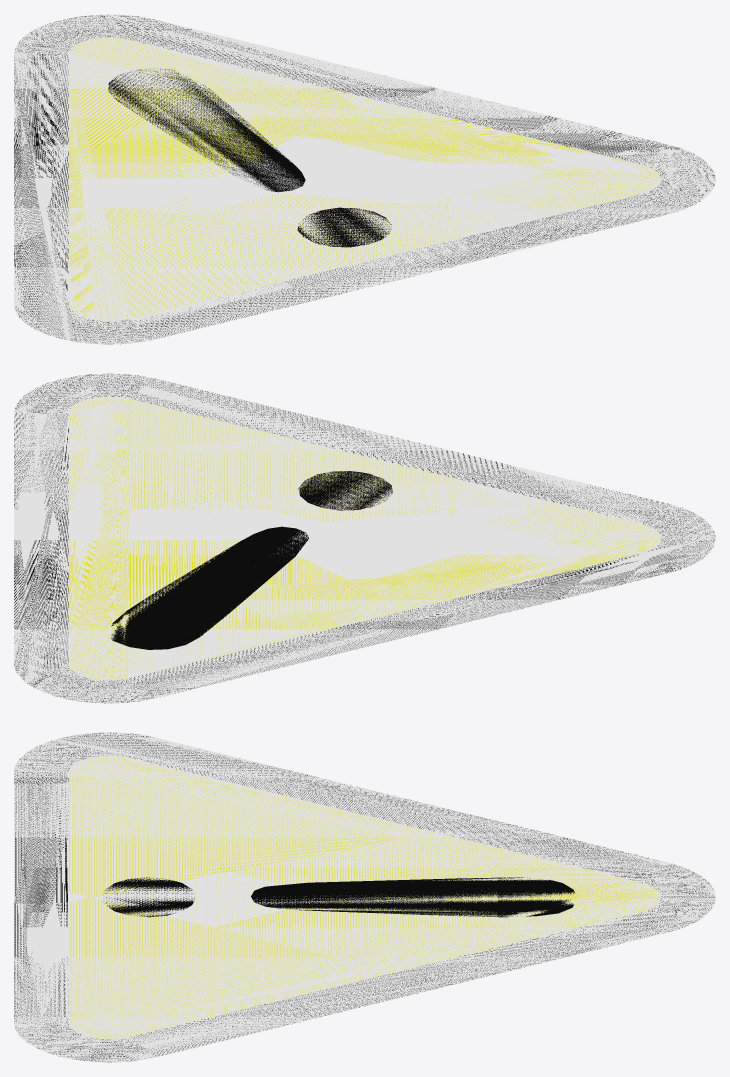
The model's file is danger_sign.dae.
3 renders of one model, top to bottom at view 1: azimuth 30°, elevation 25°; view 2: azimuth 150°, elevation 25°; view 3: azimuth 270°, elevation 25°, orthographic.
Parts seen in each view (by area): view 1: Component_1 (×2), instance_1; view 2: Component_1 (×2), instance_1; view 3: Component_1 (×2), instance_1.
Part boxes in pixels (x1,y1,x2,y2): Component_1 (×2): [14, 14, 715, 344]; instance_1: [108, 68, 391, 247]; Component_1 (×2): [14, 373, 715, 703]; instance_1: [111, 471, 392, 649]; Component_1 (×2): [14, 732, 715, 1062]; instance_1: [103, 877, 574, 917].
Bounding box in the file's own units: 40.18 × 36.1 × 7.45e-10.
